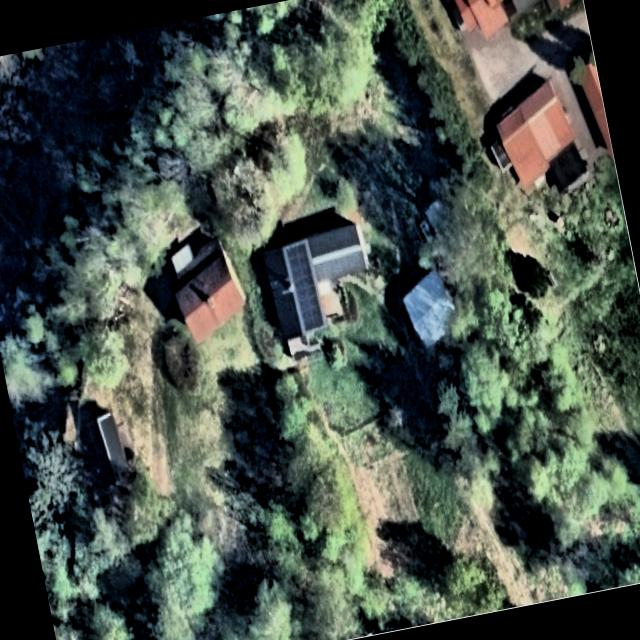roof_pv: (282, 240, 329, 336)
